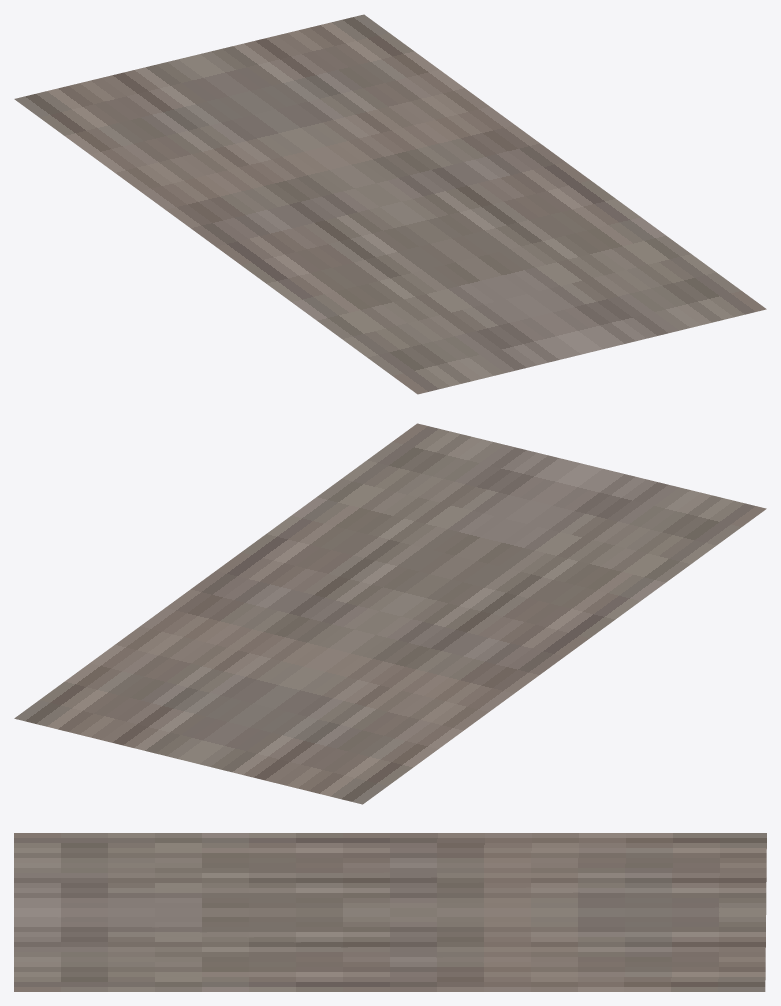
Rendered from pir_m_bld_frt_innerWallStucco_100_footprint.fbx.
The picture shows the model from 3 angles, top to bottom: view 1: azimuth 30°, elevation 25°; view 2: azimuth 150°, elevation 25°; view 3: azimuth 270°, elevation 25°; orthographic projection. The views are drawn at different scales.
Parts seen in each view (by area): view 1: footprint; view 2: footprint; view 3: footprint.
Part boxes in pixels (bbox=[...]): footprint: bbox=[14, 14, 766, 394]; footprint: bbox=[14, 423, 766, 804]; footprint: bbox=[14, 833, 766, 991].
Bounding box in the file's own units: 5000 × 0.00163 × 10011.
1 material, 1 textured.
